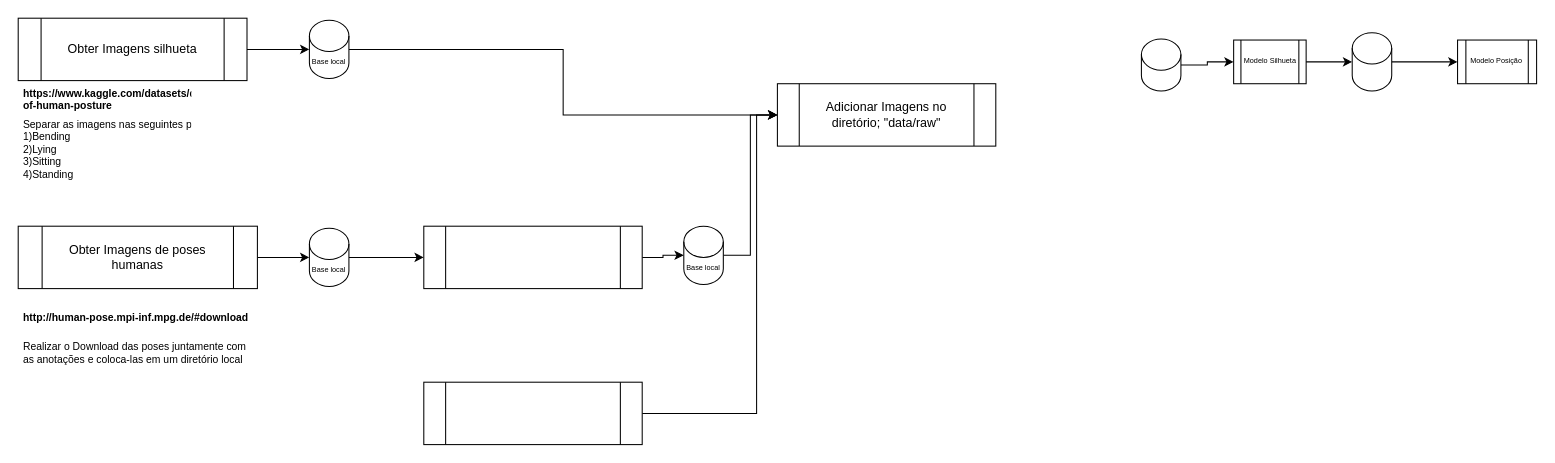
This 1555x463 diagram has some shape labels left out. The centre of each missing label's shape, as x and y in pixels:
Base Silhueta: pixel 1371 61
Base Treino: pixel 1160 64
Criar estrutura de diretórios conforme orientação: pixel 532 413
Rodar Script "converte_anotacoes_human-pose": pixel 532 257
